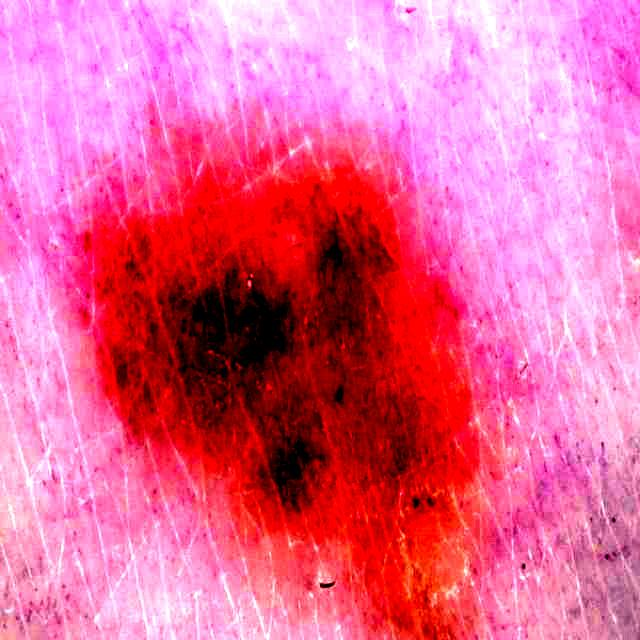NV: (107, 151, 476, 570)
